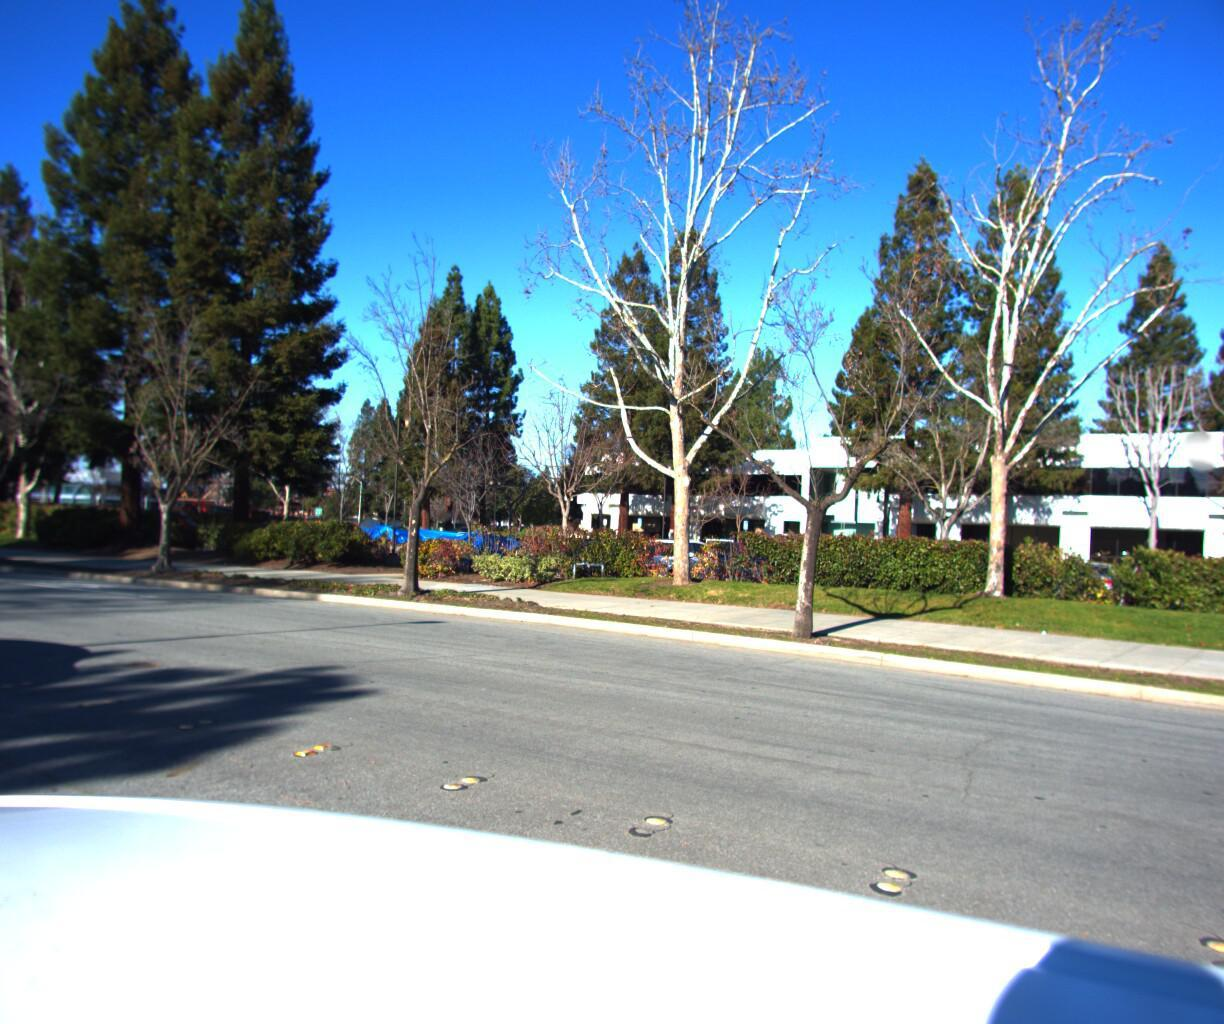car: (603, 530, 726, 591)
